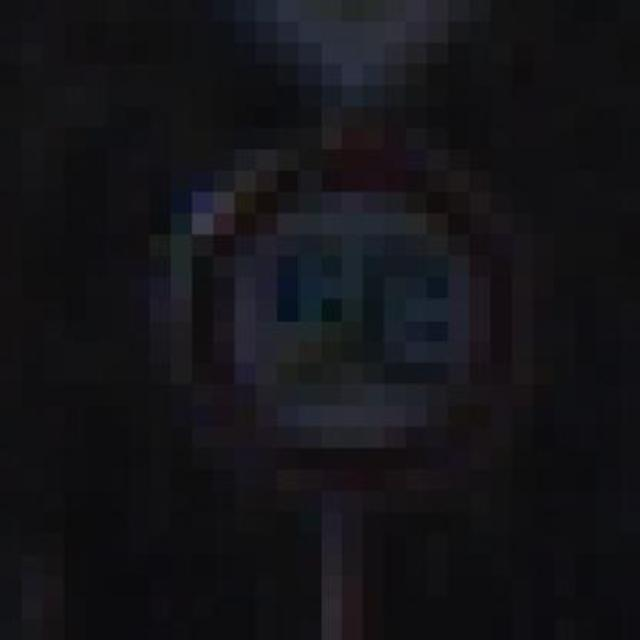50 mph speed limit: (150, 128, 556, 534)
